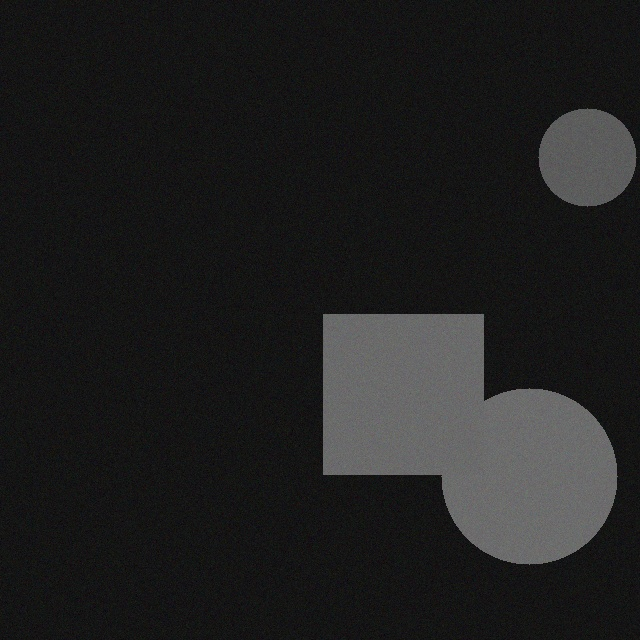circle: (430, 386, 606, 562), (527, 106, 625, 204)
square: (312, 312, 472, 472)
